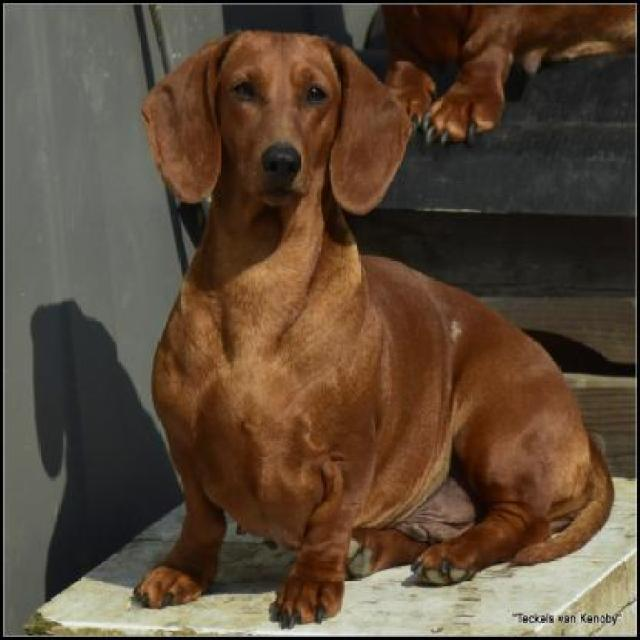Dog: (125, 24, 612, 634)
